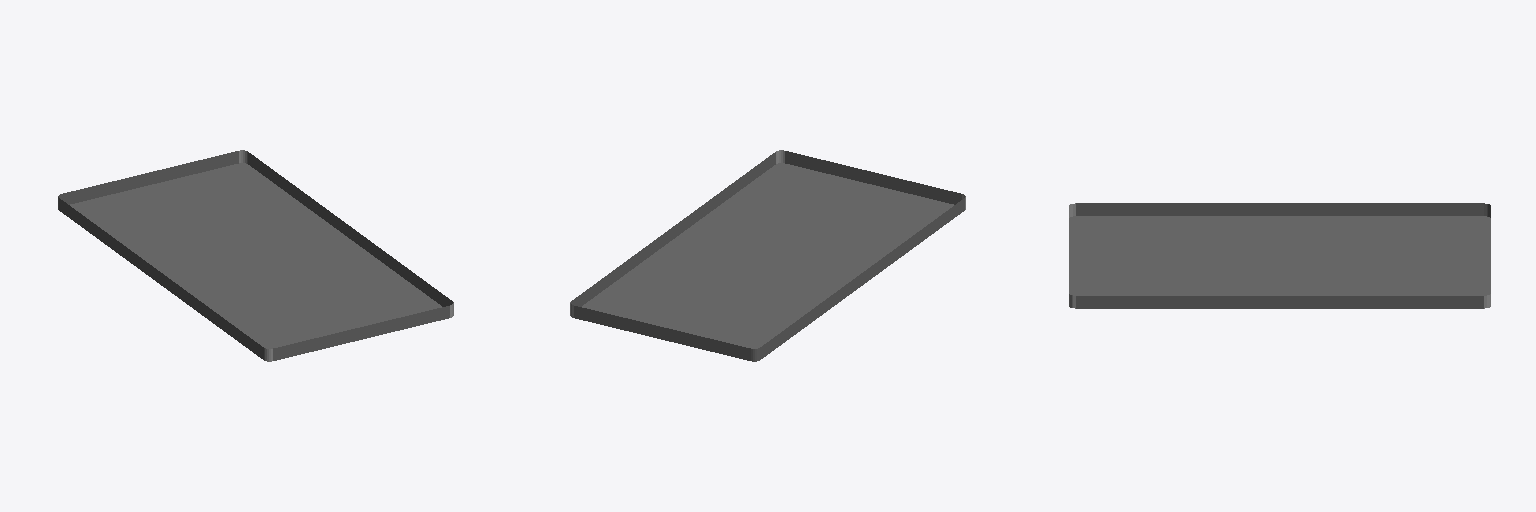
Rendered from plateau_60.obj.
The picture shows the model from 3 angles: view 1: azimuth 30°, elevation 25°; view 2: azimuth 150°, elevation 25°; view 3: azimuth 270°, elevation 25°; orthographic projection.
Parts seen in each view (by area): view 1: Cube.000_Cube.004; view 2: Cube.000_Cube.004; view 3: Cube.000_Cube.004.
Part boxes in pixels (x1,y1,x2,y2): Cube.000_Cube.004: (58,150,453,361); Cube.000_Cube.004: (570,150,965,361); Cube.000_Cube.004: (1069,203,1490,308).
Bounding box in the file's own units: 31 × 2 × 60.